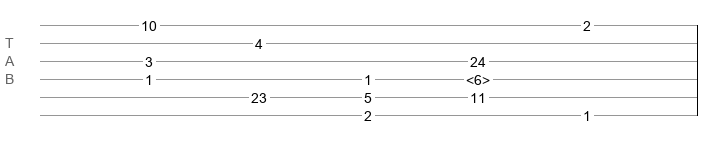1: (145, 72, 153, 82), (364, 72, 372, 82), (583, 108, 591, 118)
10: (141, 18, 157, 28)
11: (470, 90, 486, 100)
2: (364, 108, 372, 118), (583, 18, 591, 28)
23: (251, 90, 267, 100)
24: (470, 54, 486, 64)
3: (145, 54, 153, 64)
4: (255, 36, 263, 46)
5: (364, 90, 372, 100)
harmonic: (466, 72, 490, 82)
